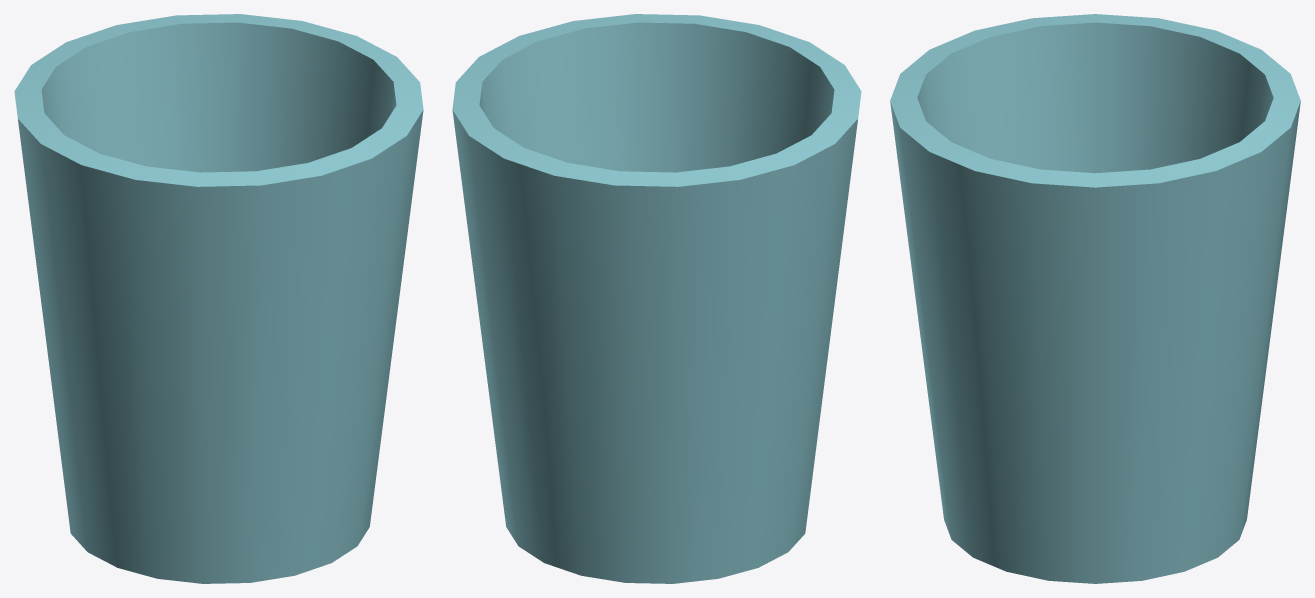
Rendered from Becher.fbx.
3 views of the same model, side by side, from view 1: azimuth 30°, elevation 25°; view 2: azimuth 150°, elevation 25°; view 3: azimuth 270°, elevation 25° (orthographic).
Visible parts, largest first — view 1: pPipe1; view 2: pPipe1; view 3: pPipe1.
Part boxes in pixels (<box>): pPipe1: <box>14,14,423,583</box>; pPipe1: <box>452,14,861,583</box>; pPipe1: <box>890,14,1300,583</box>.
Bounding box in the file's own units: 4 × 4.54 × 4.
